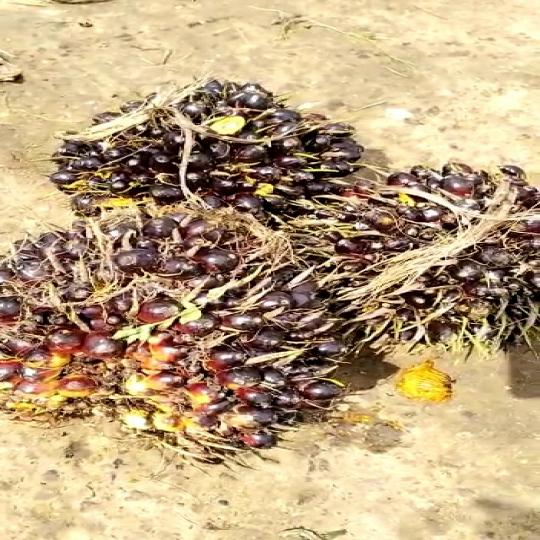mentah: (0, 202, 371, 461), (44, 73, 352, 224), (285, 171, 540, 340)
